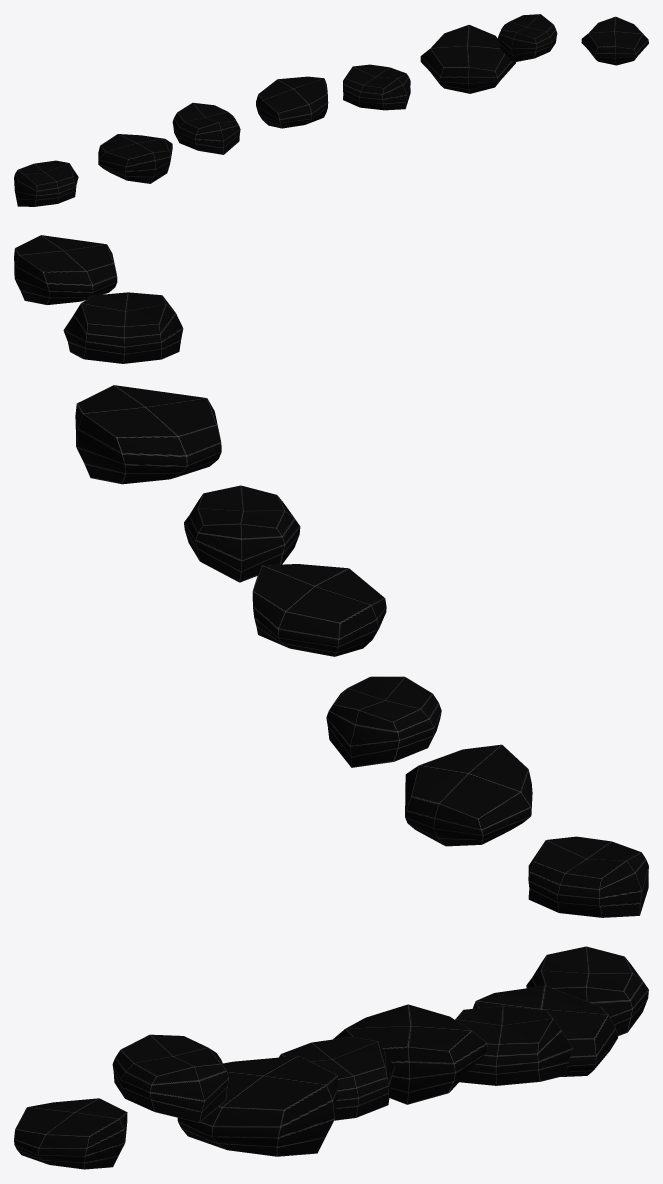
File: RockStaircaseScaled.obj
3 renders of one model, top to bottom at view 1: azimuth 30°, elevation 25°; view 2: azimuth 150°, elevation 25°; view 3: azimuth 270°, elevation 25°, orthographic. The views are drawn at different scales.
Visible parts, largest first — view 1: rockwideround4, rockwideround2:rockwideround, rockwideround3, rockround1, rockround2, rockround:rockround, rockwideround5, rockround3; view 2: rockwideround4, rockwideround3, rockwideround2:rockwideround, rockround:rockround, rockround1, rockround2, rockround3, rockwideround5; view 3: rockwideround4, rockwideround2:rockwideround, rockround3, rockround1, rockwideround5, rockround:rockround, rockround2, rockwideround3.
Part boxes in pixels (box(x1,y1,x2,y2)): rockwideround4: box(420, 24, 515, 93); rockwideround2:rockwideround: box(256, 76, 328, 128); rockwideround3: box(98, 134, 172, 183); rockround1: box(172, 102, 240, 154); rockround2: box(343, 64, 410, 110); rockround:rockround: box(14, 160, 78, 206); rockwideround5: box(581, 16, 648, 65); rockround3: box(498, 14, 557, 62); rockwideround4: box(75, 385, 221, 484); rockwideround3: box(405, 744, 532, 846); rockwideround2:rockwideround: box(252, 564, 386, 656); rockround:rockround: box(528, 836, 648, 917); rockround1: box(326, 676, 441, 767); rockround2: box(184, 485, 300, 582); rockround3: box(63, 292, 183, 363); rockwideround5: box(14, 235, 117, 304); rockwideround4: box(177, 1056, 337, 1156); rockwideround2:rockwideround: box(333, 1004, 487, 1104); rockround3: box(112, 1034, 228, 1122); rockround1: box(455, 1006, 573, 1085); rockwideround5: box(14, 1098, 127, 1169); rockround:rockround: box(526, 946, 648, 1036); rockround2: box(279, 1036, 394, 1120); rockwideround3: box(472, 985, 617, 1076).
Bounding box in the file's own units: 24.53 × 8.07 × 14.79.
